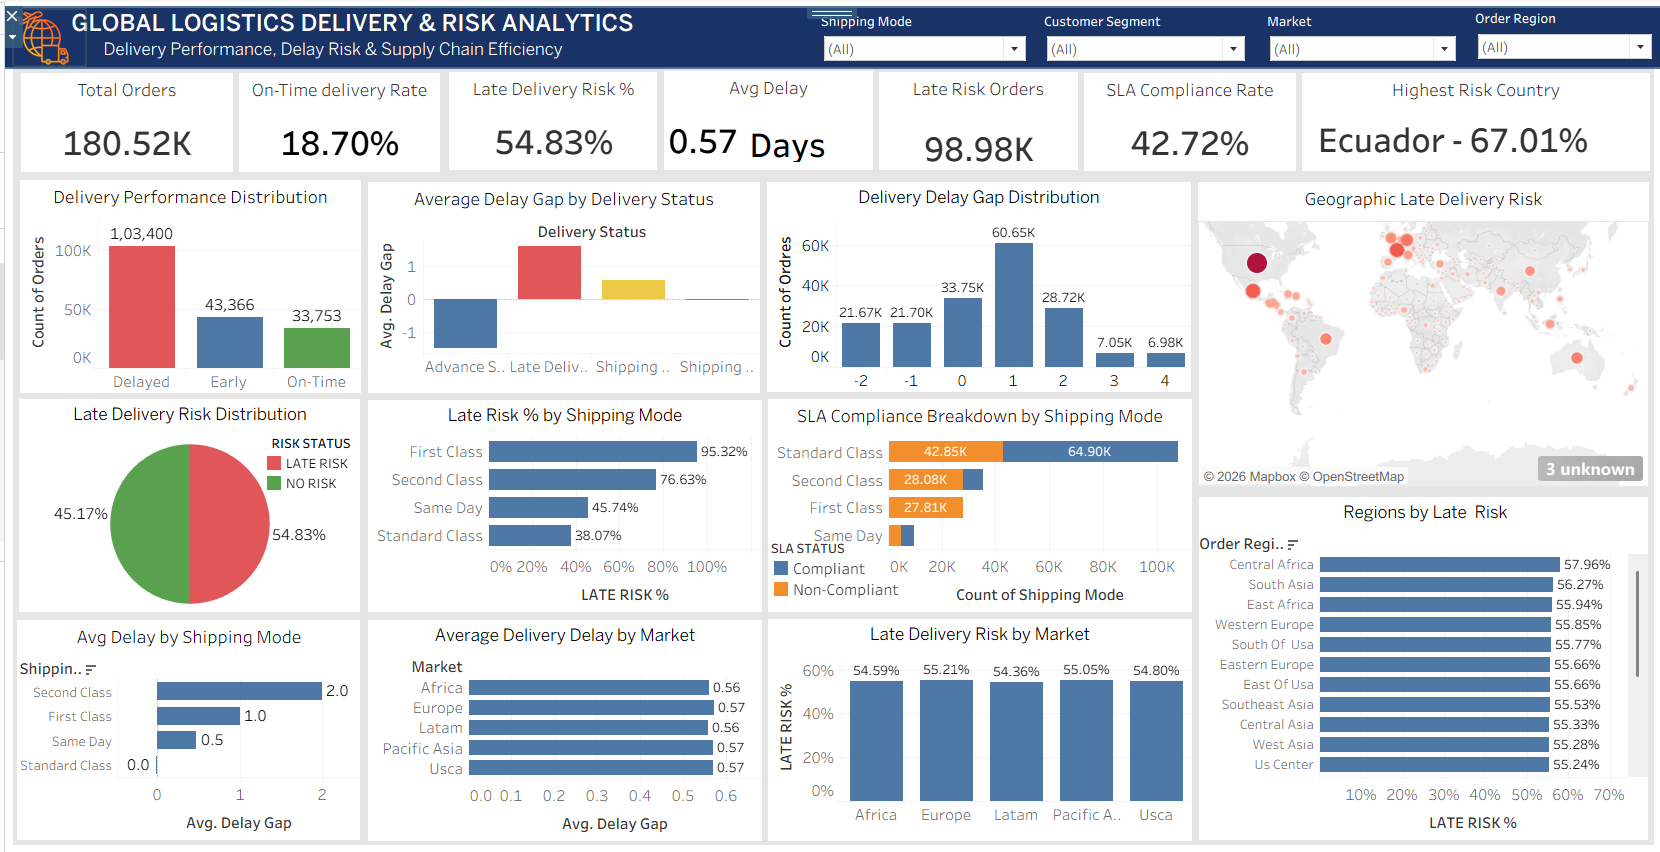

Layout of this report page (visuals, bound fields, positions):
{"tool":"tableau","page":{"name":"Delivery Performance","canvas":[1000,1000],"units":"permille","ordinal":0},"visuals":[{"type":"worksheet","title":"SHIPPING MODE Filter","mark":"Automatic","box":[537.7,8.2,65.2,32.9]},{"type":"filter","title":"ORDER REGION Filter","param":"[federated.0ctxxqq03tv305196tgqy05t06x8].[none:order_region:nk]","box":[887.1,8.2,108.6,62.3]},{"type":"image","param":"Image/12503254.png","box":[5.4,9.4,42.9,64.6]},{"type":"text","box":[38.1,9.4,382.5,30.6]},{"type":"worksheet","title":"MARKET Filter","mark":"Automatic","box":[800.8,10.6,20.5,41.1]},{"type":"filter","title":"SHIPPING MODE Filter","param":"[federated.0ctxxqq03tv305196tgqy05t06x8].[none:shipping_mode:nk]","box":[492.5,11.8,125.5,59.9]},{"type":"filter","title":"CUSTOMER SEGMENT Filter","param":"[federated.0ctxxqq03tv305196tgqy05t06x8].[none:customer_segment:nk]","box":[627,11.8,123.1,59.9]},{"type":"filter","title":"MARKET Filter","param":"[federated.0ctxxqq03tv305196tgqy05t06x8].[none:market:nk]","box":[761.6,11.8,115.9,59.9]},{"type":"worksheet","title":"CUSTOMER SEGMENT Filter","mark":"Automatic","box":[624.6,14.1,91.1,28.2]},{"type":"worksheet","title":"ORDER REGION Filter","mark":"Automatic","box":[838.3,15.3,91.1,27]},{"type":"text","box":[57.4,38.8,353.2,31.7]},{"type":"worksheet","title":"AVERAGE DELAY","mark":"Automatic","box":[397.8,81.1,126,116.3]},{"type":"worksheet","title":"AVERAGE DELIVERY DELAY","mark":"Automatic","box":[267.7,82.3,126,115.2]},{"type":"worksheet","title":"LATE RISK ORDERS","mark":"Automatic","box":[527.2,82.3,120.1,115.2]},{"type":"worksheet","title":"Total Orders","mark":"Automatic","box":[9.7,83.4,127.9,116.3]},{"type":"worksheet","title":"ON-TIME DELIVERY RATE","mark":"Automatic","box":[141.2,83.4,121.3,116.3]},{"type":"worksheet","title":"SLA COMPLIANCE RATE","mark":"Automatic","box":[651.4,83.4,127.7,115.2]},{"type":"worksheet","title":"HIGHEST RISK COUNTRY","mark":"Automatic","box":[782.7,83.4,210,115.2]},{"type":"text","box":[447.2,144.5,61.6,43.5]},{"type":"worksheet","title":"DELIVERY PERFORMANCE DISTRIBUTION","mark":"Bar","rows":["delivery_performance"],"cols":["delivery_performance"],"box":[9.1,209.2,205.8,250.3]},{"type":"worksheet","title":"AVERAGE DELAY (DAYS) BY DELIVERY STATUS","mark":"Automatic","rows":["delay_gap"],"cols":["delivery_status"],"box":[219.1,211.5,236.7,247.9]},{"type":"worksheet","title":"DELIVERY DELAY GAP DISTRIBUTION","mark":"Automatic","rows":["delay_gap"],"cols":["Delay Gap (bin)"],"box":[459.9,211.5,256,246.8]},{"type":"worksheet","title":"Geographic Delivery Risk Map","mark":"Circle","box":[720,211.5,272.2,358.4]},{"type":"worksheet","title":"LATE DELIVERY RISK DISTRIBUTION","mark":"Pie","box":[8.2,466.5,206.2,250.3]},{"type":"worksheet","title":"SLA COMPLIANCE BY SHIPPING MODE","mark":"Bar","rows":["shipping_mode"],"cols":["shipping_mode"],"box":[460.5,466.5,256,250.3]},{"type":"worksheet","title":"LATE RISK % BY SHIPPING MODE","mark":"Automatic","rows":["shipping_mode"],"cols":["Calculation_4743603182489602"],"box":[219.1,467.7,237.8,249.1]},{"type":"legend","title":"LATE DELIVERY RISK DISTRIBUTION","param":"[federated.0ctxxqq03tv305196tgqy05t06x8].[none:Calculation_5331842184237056:nk]","box":[156.3,507.6,56.7,87]},{"type":"worksheet","title":"LATE RISK % BY ORDER REGION","mark":"Automatic","rows":["order_region"],"cols":["Calculation_4743603182489602"],"box":[720.6,581.7,271,403.1]},{"type":"legend","title":"SLA COMPLIANCE BY SHIPPING MODE","param":"[federated.0ctxxqq03tv305196tgqy05t06x8].[none:Calculation_4743603182895109:nk]","box":[462.2,631,82,75.2]},{"type":"worksheet","title":"LATE DELIVERY RISK BY MARKET","mark":"Bar","rows":["Calculation_4743603182489602"],"cols":["market"],"box":[460.5,725,256,260.9]},{"type":"worksheet","title":"AVERAGE DELAY (DAYS) BY SHIPPING MODE","mark":"Automatic","rows":["shipping_mode"],"cols":["delay_gap"],"box":[7,726.2,207.4,258.5]},{"type":"worksheet","title":"AVERAGE DELIVERY DELAY BY MARKET","mark":"Automatic","rows":["market"],"cols":["delay_gap"],"box":[219.1,726.2,237.8,259.7]}]}

Visuals, with their boxes on the dashboard's canvas, which has no fixed pixel size, in thousandths of its width and height (x1, y1, x2, y2). These are canvas units, not pixel positions in the 1660x852 screenshot, which may show the page scaled, cropped or inside an application window:
"SHIPPING MODE Filter" worksheet: rect(538, 8, 603, 41)
"ORDER REGION Filter" filter: rect(887, 8, 996, 70)
image: rect(5, 9, 48, 74)
text: rect(38, 9, 421, 40)
"MARKET Filter" worksheet: rect(801, 11, 821, 52)
"SHIPPING MODE Filter" filter: rect(492, 12, 618, 72)
"CUSTOMER SEGMENT Filter" filter: rect(627, 12, 750, 72)
"MARKET Filter" filter: rect(762, 12, 878, 72)
"CUSTOMER SEGMENT Filter" worksheet: rect(625, 14, 716, 42)
"ORDER REGION Filter" worksheet: rect(838, 15, 929, 42)
text: rect(57, 39, 411, 70)
"AVERAGE DELAY" worksheet: rect(398, 81, 524, 197)
"AVERAGE DELIVERY DELAY" worksheet: rect(268, 82, 394, 198)
"LATE RISK ORDERS" worksheet: rect(527, 82, 647, 198)
"Total Orders" worksheet: rect(10, 83, 138, 200)
"ON-TIME DELIVERY RATE" worksheet: rect(141, 83, 262, 200)
"SLA COMPLIANCE RATE" worksheet: rect(651, 83, 779, 199)
"HIGHEST RISK COUNTRY" worksheet: rect(783, 83, 993, 199)
text: rect(447, 144, 509, 188)
"DELIVERY PERFORMANCE DISTRIBUTION" worksheet (Bar marks): rect(9, 209, 215, 460)
"AVERAGE DELAY (DAYS) BY DELIVERY STATUS" worksheet: rect(219, 212, 456, 459)
"DELIVERY DELAY GAP DISTRIBUTION" worksheet: rect(460, 212, 716, 458)
"Geographic Delivery Risk Map" worksheet (Circle marks): rect(720, 212, 992, 570)
"LATE DELIVERY RISK DISTRIBUTION" worksheet (Pie marks): rect(8, 466, 214, 717)
"SLA COMPLIANCE BY SHIPPING MODE" worksheet (Bar marks): rect(460, 466, 716, 717)
"LATE RISK % BY SHIPPING MODE" worksheet: rect(219, 468, 457, 717)
"LATE DELIVERY RISK DISTRIBUTION" legend: rect(156, 508, 213, 595)
"LATE RISK % BY ORDER REGION" worksheet: rect(721, 582, 992, 985)
"SLA COMPLIANCE BY SHIPPING MODE" legend: rect(462, 631, 544, 706)
"LATE DELIVERY RISK BY MARKET" worksheet (Bar marks): rect(460, 725, 716, 986)
"AVERAGE DELAY (DAYS) BY SHIPPING MODE" worksheet: rect(7, 726, 214, 985)
"AVERAGE DELIVERY DELAY BY MARKET" worksheet: rect(219, 726, 457, 986)
